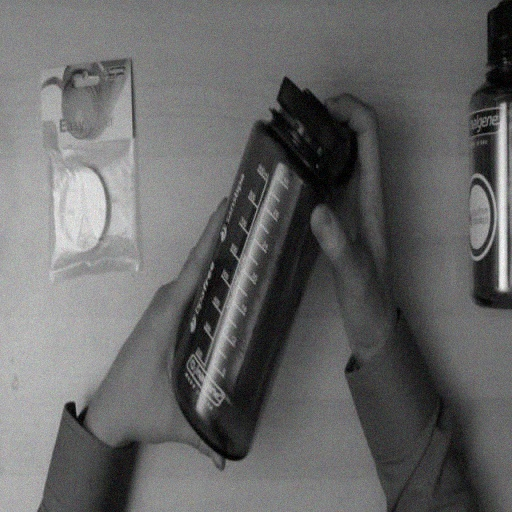bottle: (169, 70, 360, 464)
